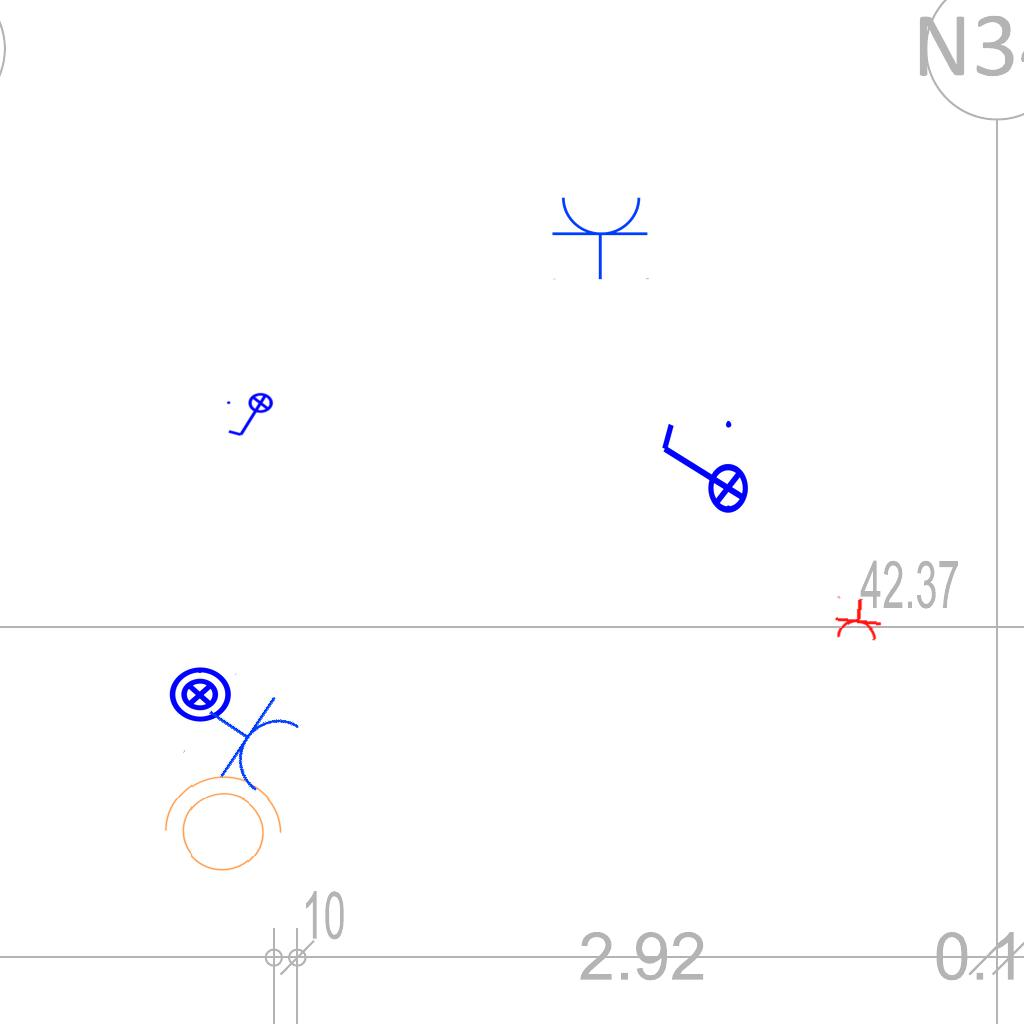Ausschalter_beleuchtet: (654, 415, 750, 527), (224, 392, 280, 440)
Scheinwerfer_fuer_Alarmbeleuchtung: (153, 769, 287, 885)
Schukosteckdose_einfach: (180, 670, 310, 803), (551, 193, 651, 280), (830, 595, 885, 643)
Taster_beleuchtet: (167, 662, 233, 728)
